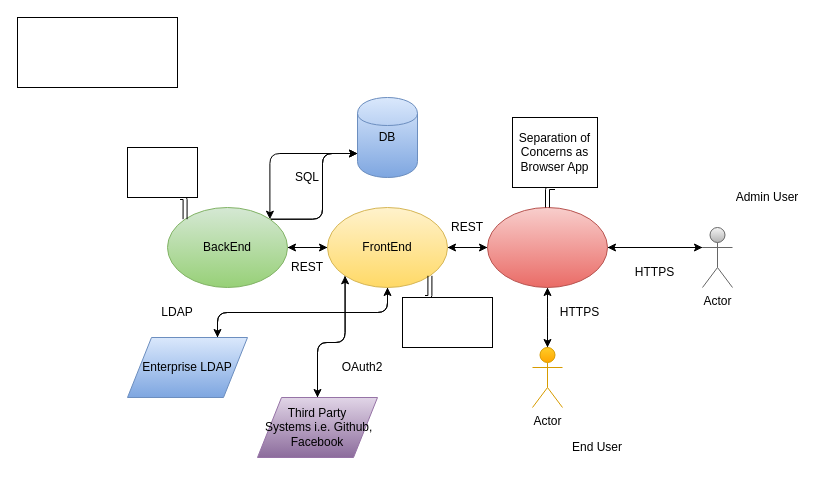
This 820x495 diagram has some shape labels left out. The shapes that lost their labels are listed below. From the top down, each one's centre as x and y in pixels, then its label:
point (97, 52): Krazy Ideas Architecture
point (162, 172): Data Persistence
point (547, 247): Client
point (447, 322): Authenticated Client Access
